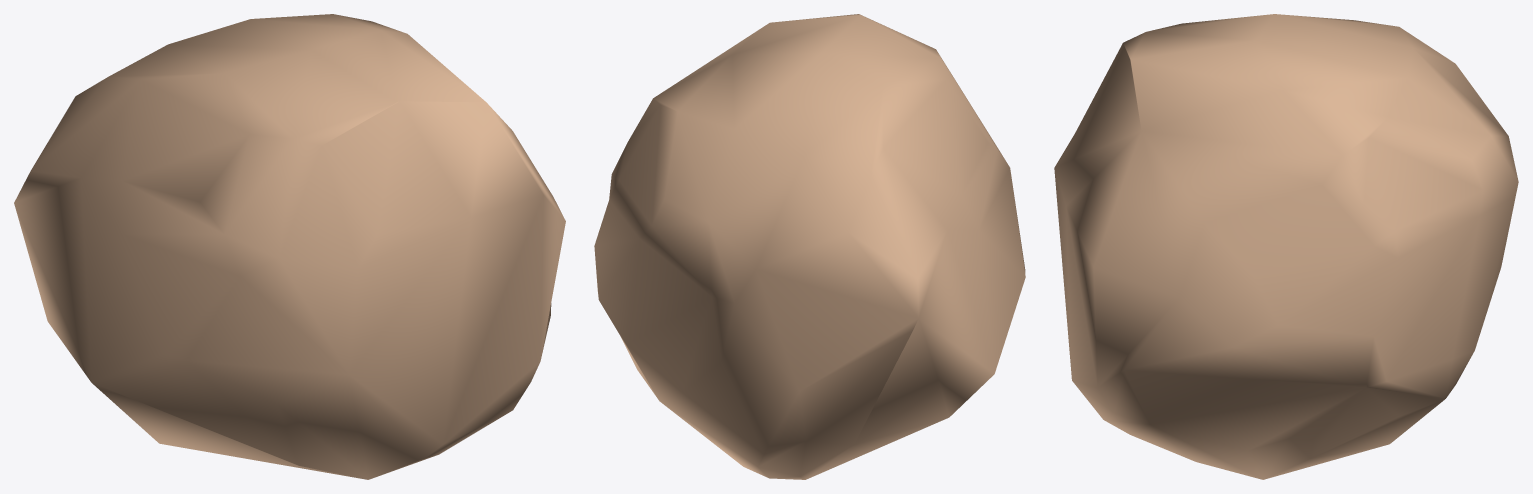
The model's file is Rock_2c.gltf.
3 views of the same model, side by side, from view 1: azimuth 30°, elevation 25°; view 2: azimuth 150°, elevation 25°; view 3: azimuth 270°, elevation 25° (orthographic). The views are drawn at different scales.
Visible parts, largest first — view 1: Rock_2c; view 2: Rock_2c; view 3: Rock_2c.
Boxes of the visible parts, x1,y1,x2,y2 form: Rock_2c: (14, 14, 565, 479); Rock_2c: (594, 14, 1025, 479); Rock_2c: (1054, 14, 1518, 479).
Bounding box in the file's own units: 34.79 × 32.73 × 34.34.
1 material, 1 textured.
